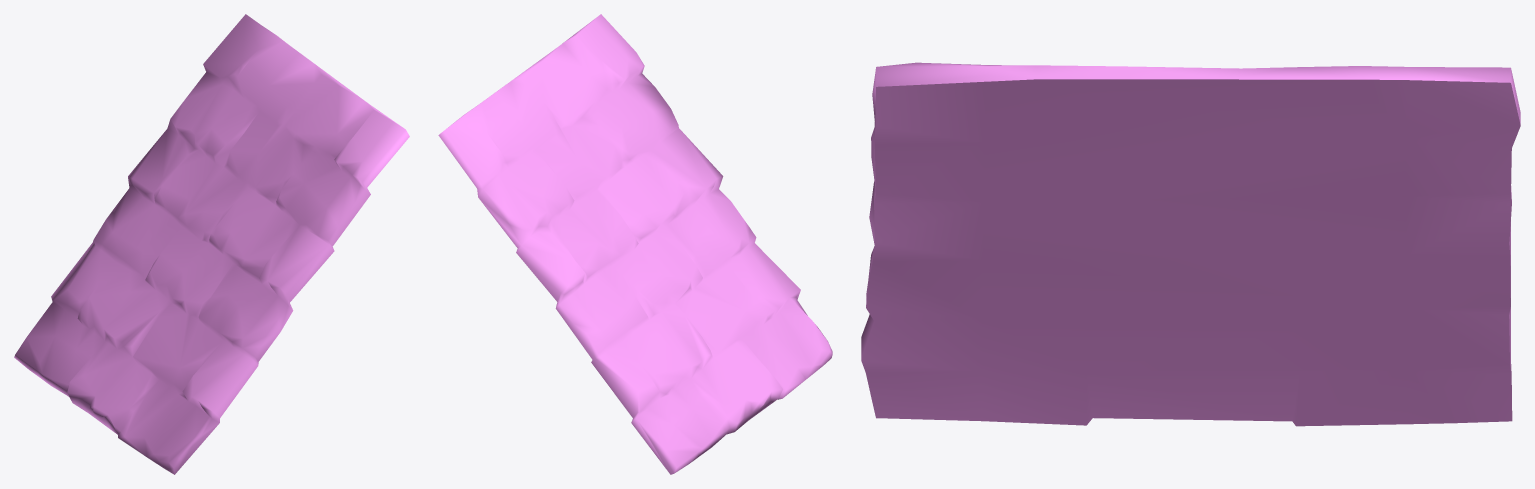
File: small_roof_02.fbx
The picture shows the model from 3 angles, left to right: view 1: azimuth 30°, elevation 25°; view 2: azimuth 150°, elevation 25°; view 3: azimuth 270°, elevation 25°; orthographic projection. The views are drawn at different scales.
Visible parts, largest first — view 1: small_roof_02_LOD0; view 2: small_roof_02_LOD0; view 3: small_roof_02_LOD0.
Part boxes in pixels (x1,y1,x2,y2): small_roof_02_LOD0: [14, 14, 409, 474]; small_roof_02_LOD0: [438, 14, 832, 474]; small_roof_02_LOD0: [861, 62, 1520, 426].
Size of what is drawn, in the model's own units: 210 by 243 by 249.
